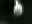person: (13, 1, 26, 18)
